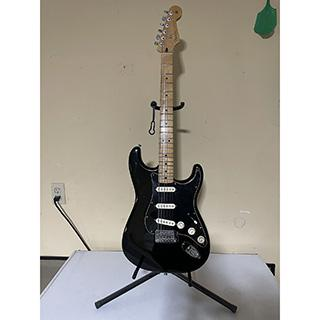Fender Stratocaster: (121, 4, 212, 276)
SSS: (155, 185, 178, 230)
